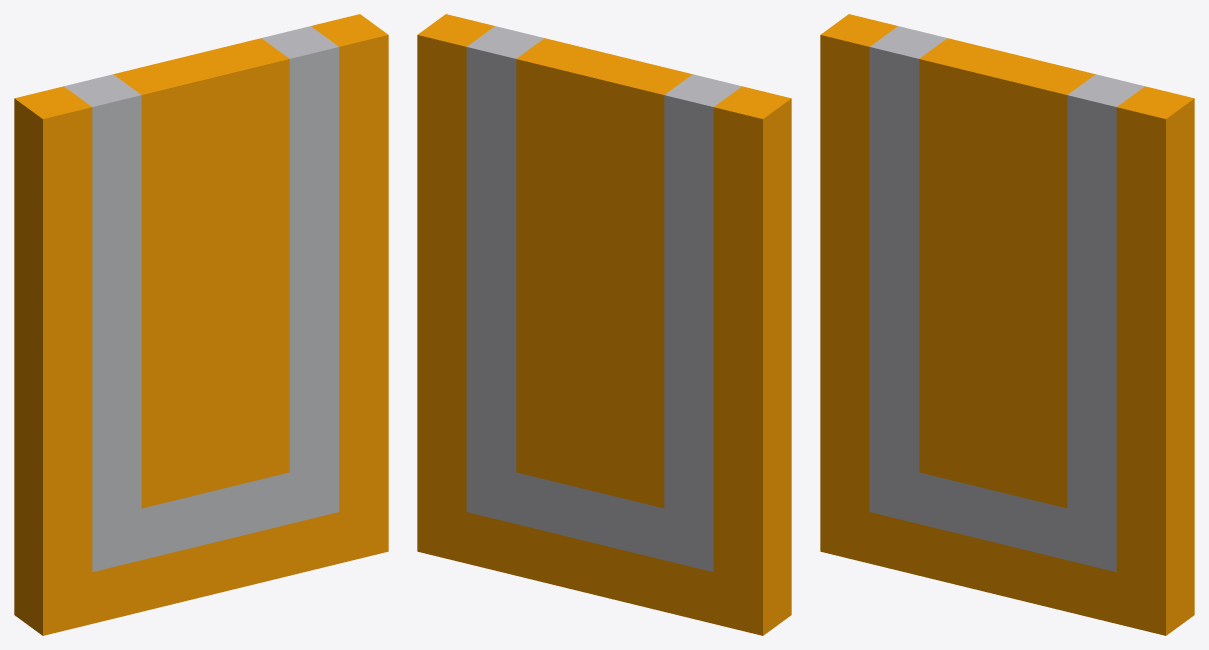
Rendered from banner_a_yellow.obj.
The picture shows the model from 3 angles, left to right: view 1: azimuth 30°, elevation 25°; view 2: azimuth 150°, elevation 25°; view 3: azimuth 330°, elevation 25°; orthographic projection.
Size of the model in its own units: 0.7 by 1 by 0.1.
1 material, 1 textured.
